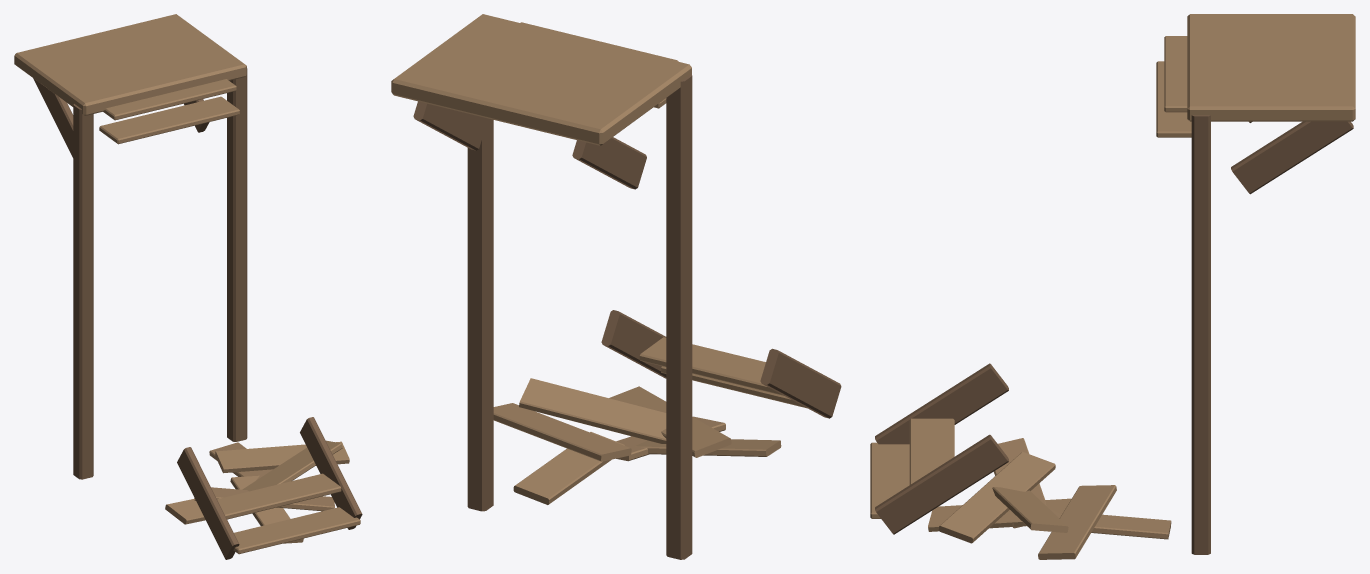
File: broken_stair.glb
3 renders of one model, left to right at view 1: azimuth 30°, elevation 25°; view 2: azimuth 150°, elevation 25°; view 3: azimuth 270°, elevation 25°, orthographic. The views are drawn at different scales.
Parts seen in each view (by area): view 1: broken_stair; view 2: broken_stair; view 3: broken_stair.
Part boxes in pixels (x1,y1,x2,y2): broken_stair: (14, 14, 362, 559); broken_stair: (391, 14, 841, 559); broken_stair: (870, 14, 1355, 559).
Bounding box in the file's own units: 2.07 × 3.59 × 3.46.
